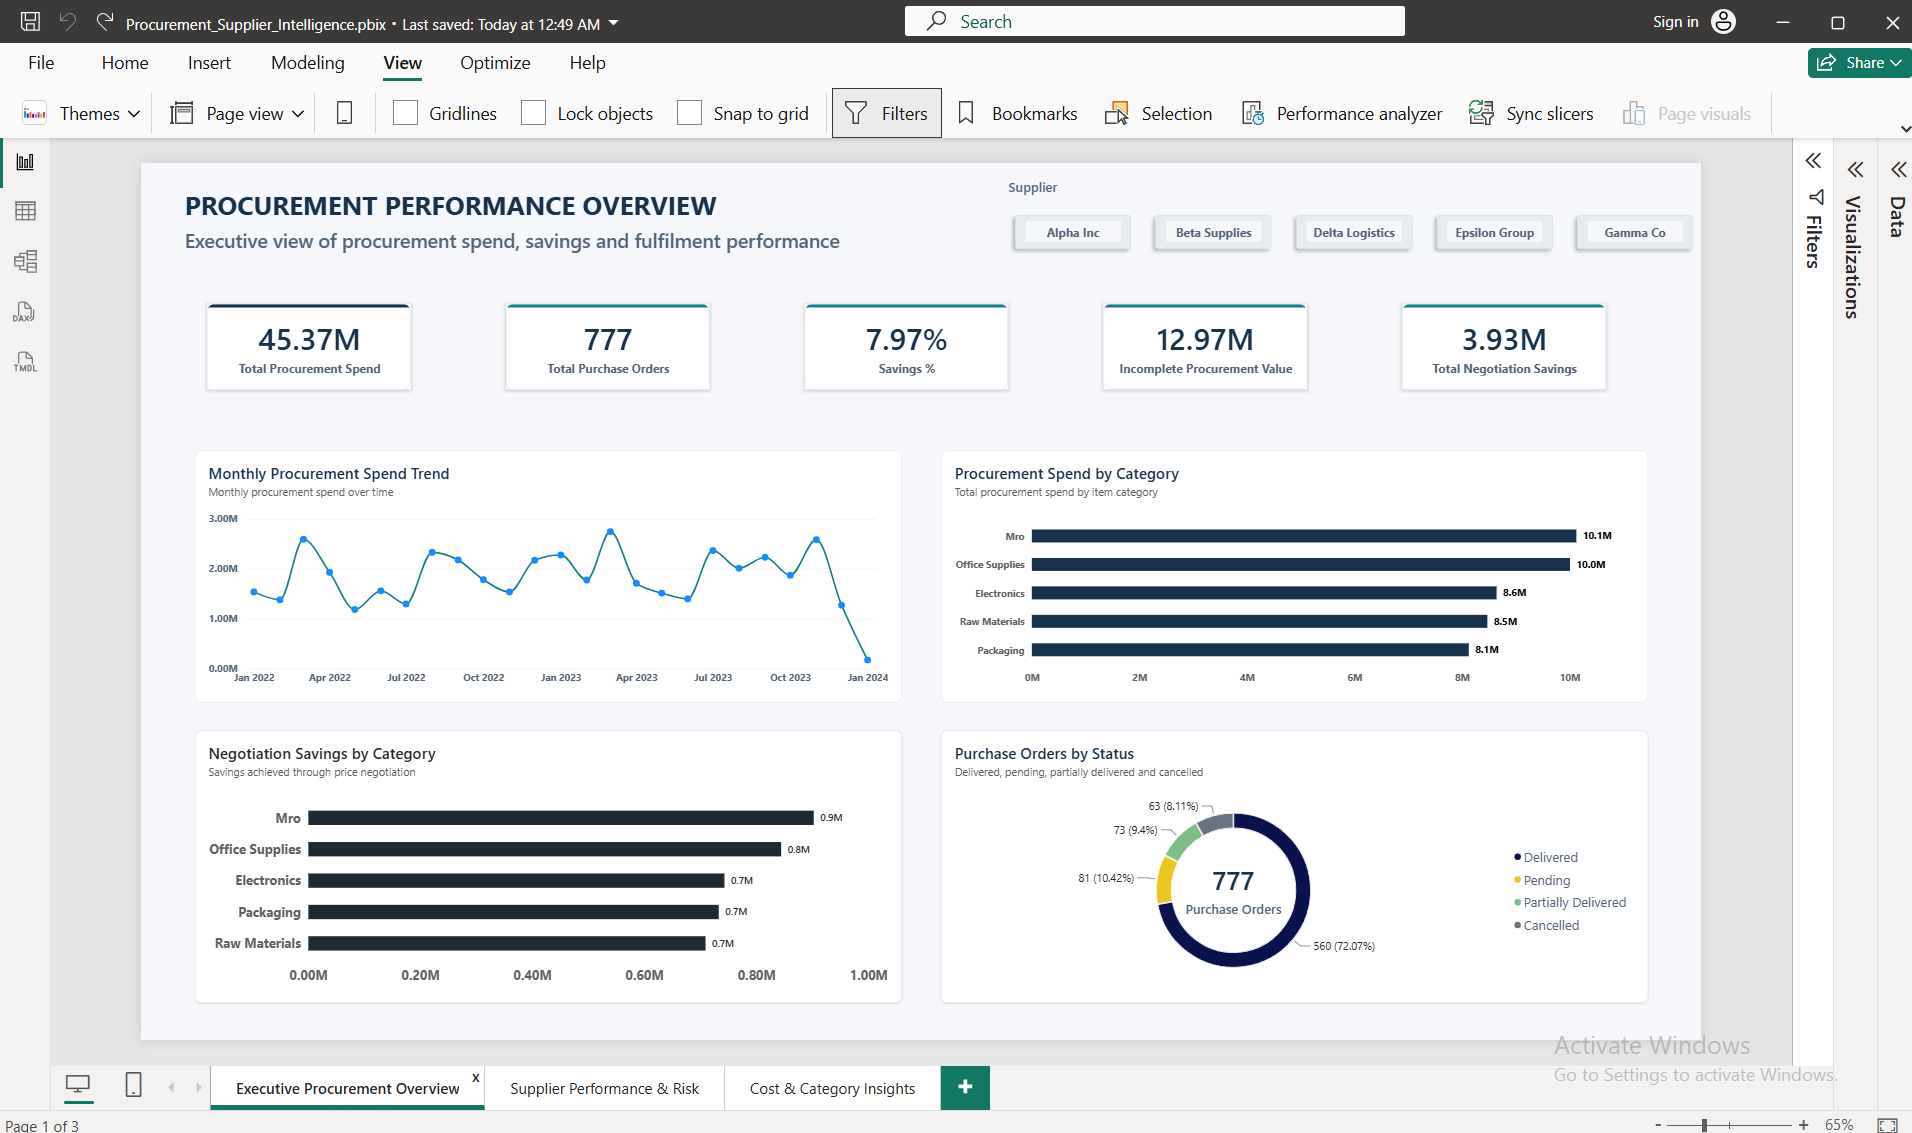

This screenshot's page, from the dashboard's own definition file:
{"tool":"powerbi","page":{"name":"Executive Procurement Overview","canvas":[1920,1080],"ordinal":0},"visuals":[{"type":"cardVisual","fields":{"Data":["Procurement.Total Procurement Spend"]},"box":[82,174.4,250,105],"z":0},{"type":"cardVisual","fields":{"Data":["Procurement.Total Negotiation Savings"]},"box":[1552.3,174.4,250,105],"z":1000},{"type":"cardVisual","fields":{"Data":["Procurement.Savings %"]},"box":[817.2,174.4,250,105],"z":2000},{"type":"cardVisual","fields":{"Data":["Procurement.Total Purchase Orders"]},"box":[449.6,174.4,250,105],"z":3000},{"type":"cardVisual","fields":{"Data":["Procurement.Incomplete Procurement Value"]},"box":[1184.7,174.4,250,105],"z":4000},{"type":"lineChart","title":"Monthly Procurement Spend Trend","fields":{"Category":["Procurement.Month Start"],"Y":["Procurement.Total Procurement Spend"]},"box":[66.3,354.1,870.4,310.5],"z":5000},{"type":"clusteredBarChart","title":" Procurement Spend by Category","fields":{"Category":["Procurement.Item_Category"],"Y":["Procurement.Total Procurement Spend"]},"box":[985.2,353.7,870,310],"z":6000},{"type":"donutChart","title":"Purchase Orders by Status","fields":{"Category":["Procurement.Order_Status"],"Y":["Procurement.Total Purchase Orders"]},"box":[985.2,698.1,870.4,335.2],"z":7000},{"type":"clusteredBarChart","title":" Negotiation Savings by Category","fields":{"Category":["Procurement.Item_Category"],"Y":["Procurement.Total Negotiation Savings"]},"box":[66.7,698.1,870.4,335.2],"z":8000},{"type":"textbox","box":[54.1,29.7,657.6,61],"z":9000},{"type":"textbox","box":[53.7,77.8,809.3,37],"z":10000},{"type":"advancedSlicerVisual","fields":{"Values":["Procurement.Supplier_Display"]},"box":[1067.4,19.2,852.9,95.9],"z":11000}]}

Visuals, with their boxes on the page's 1920x1080 design canvas (x1, y1, x2, y2). These are canvas units, not pixel positions in the 1912x1133 screenshot, which may show the page scaled, cropped or inside an application window:
cardVisual - Procurement.Total Procurement Spend: {"left": 82, "top": 174, "right": 332, "bottom": 279}
cardVisual - Procurement.Total Negotiation Savings: {"left": 1552, "top": 174, "right": 1802, "bottom": 279}
cardVisual - Procurement.Savings %: {"left": 817, "top": 174, "right": 1067, "bottom": 279}
cardVisual - Procurement.Total Purchase Orders: {"left": 450, "top": 174, "right": 700, "bottom": 279}
cardVisual - Procurement.Incomplete Procurement Value: {"left": 1185, "top": 174, "right": 1435, "bottom": 279}
"Monthly Procurement Spend Trend" lineChart: {"left": 66, "top": 354, "right": 937, "bottom": 665}
" Procurement Spend by Category" clusteredBarChart: {"left": 985, "top": 354, "right": 1855, "bottom": 664}
"Purchase Orders by Status" donutChart: {"left": 985, "top": 698, "right": 1856, "bottom": 1033}
" Negotiation Savings by Category" clusteredBarChart: {"left": 67, "top": 698, "right": 937, "bottom": 1033}
textbox: {"left": 54, "top": 30, "right": 712, "bottom": 91}
textbox: {"left": 54, "top": 78, "right": 863, "bottom": 115}
advancedSlicerVisual - Procurement.Supplier_Display: {"left": 1067, "top": 19, "right": 1920, "bottom": 115}
